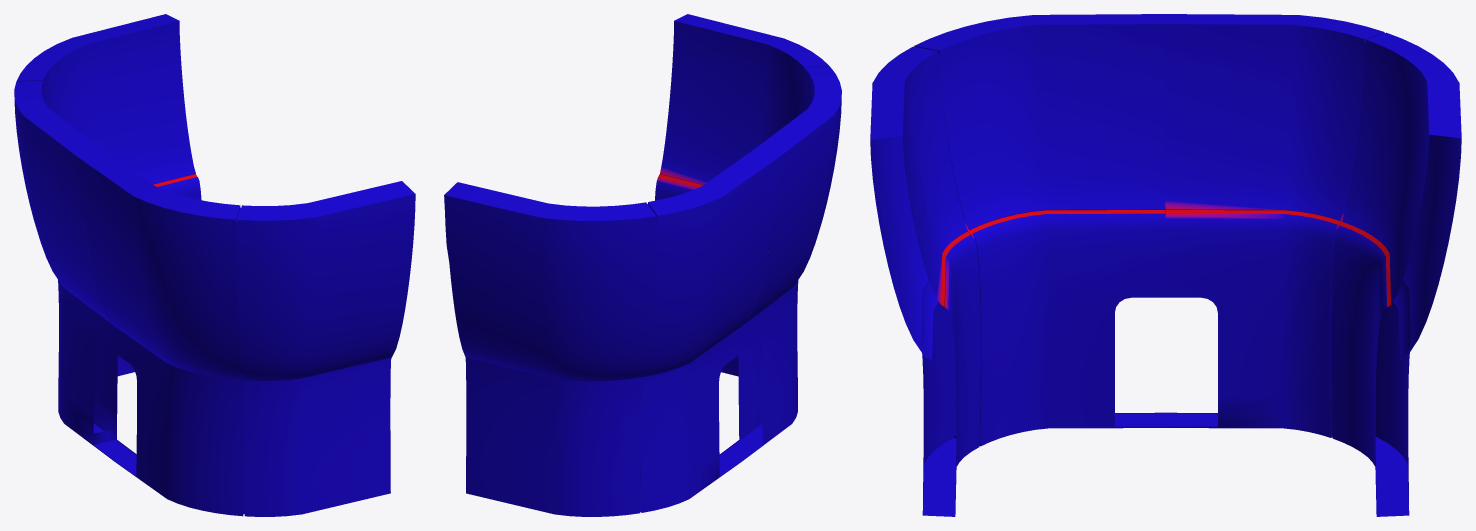
The model's file is MurPorte.fbx.
3 views of the same model, side by side, from view 1: azimuth 30°, elevation 25°; view 2: azimuth 150°, elevation 25°; view 3: azimuth 270°, elevation 25° (orthographic). The views are drawn at different scales.
Parts seen in each view (by area): view 1: Plane.004, Plane.003; view 2: Plane.003, Plane.004; view 3: Plane.003, Plane.004.
Part boxes in pixels (box(x1,y1,x2,y2)): Plane.004: box(77, 148, 415, 516); Plane.003: box(14, 14, 201, 461); Plane.003: box(444, 147, 780, 516); Plane.004: box(655, 14, 841, 461); Plane.003: box(1163, 14, 1461, 516); Plane.004: box(870, 14, 1165, 516).
Bounding box in the file's own units: 283 × 400 × 562.
